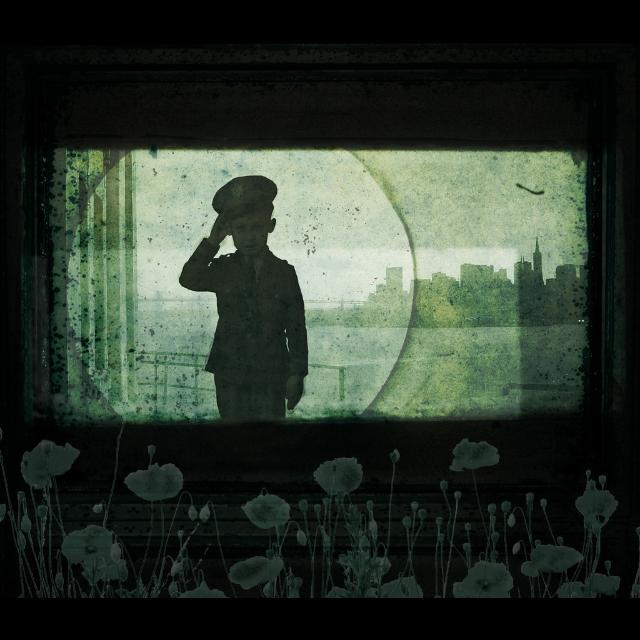Flower: (1, 437, 620, 597), (572, 474, 622, 544)
